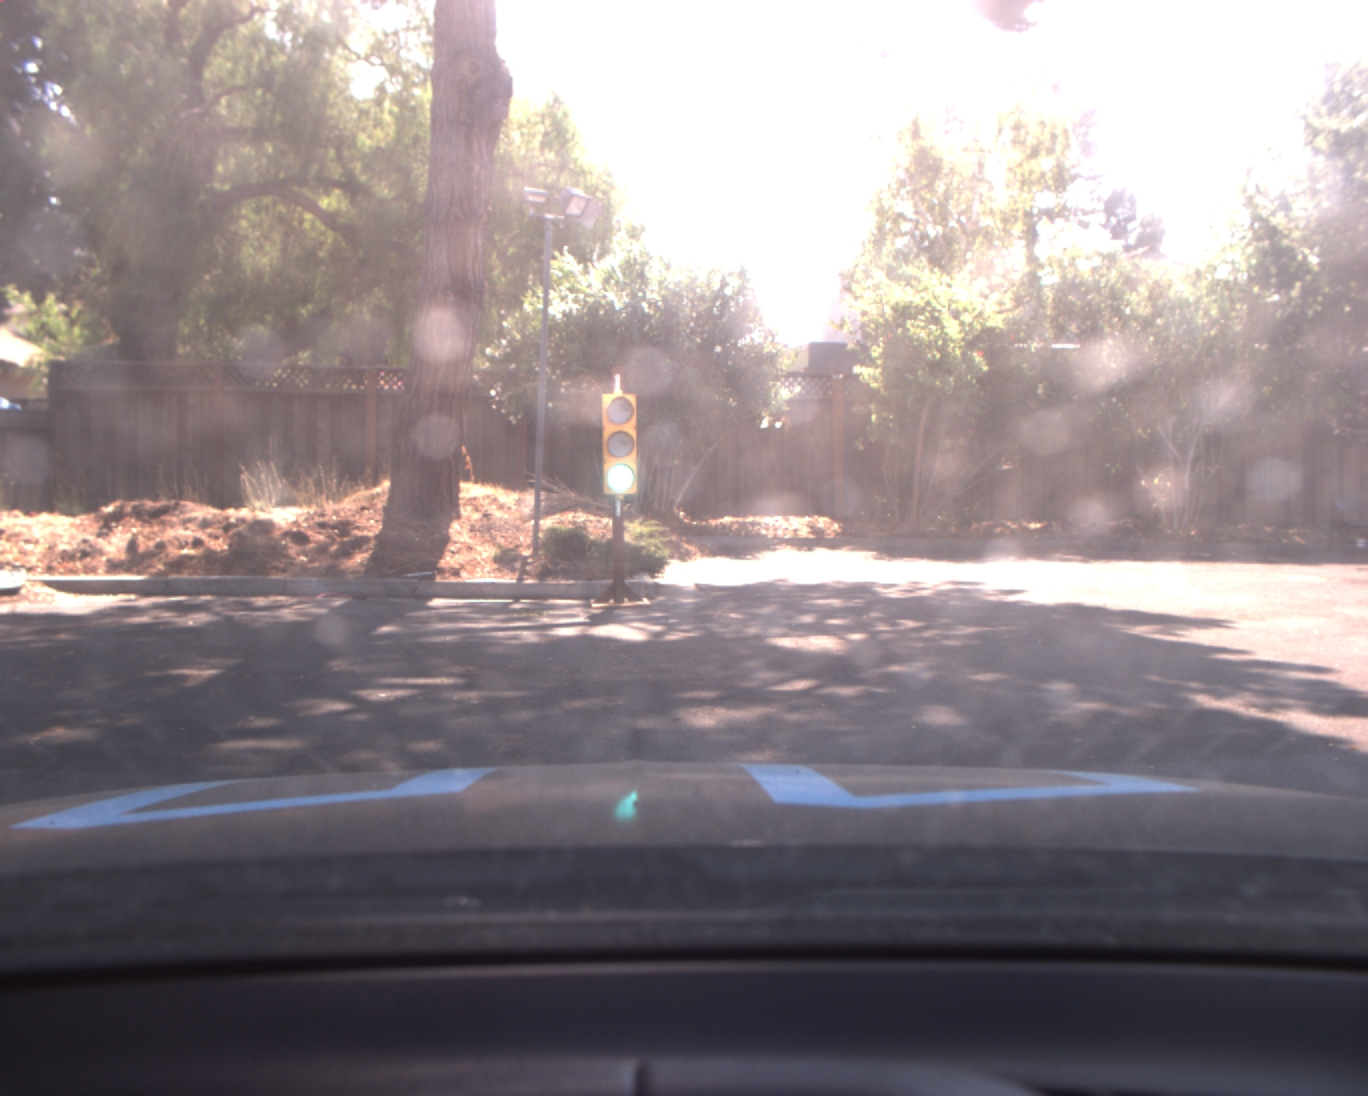green: (600, 390, 641, 498)
